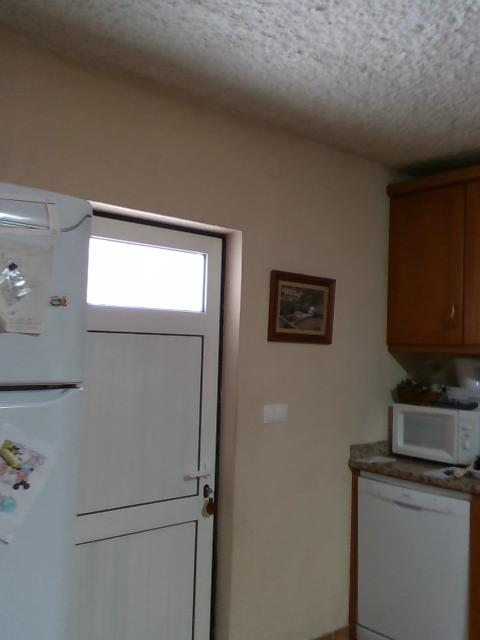door: (64, 212, 221, 639)
